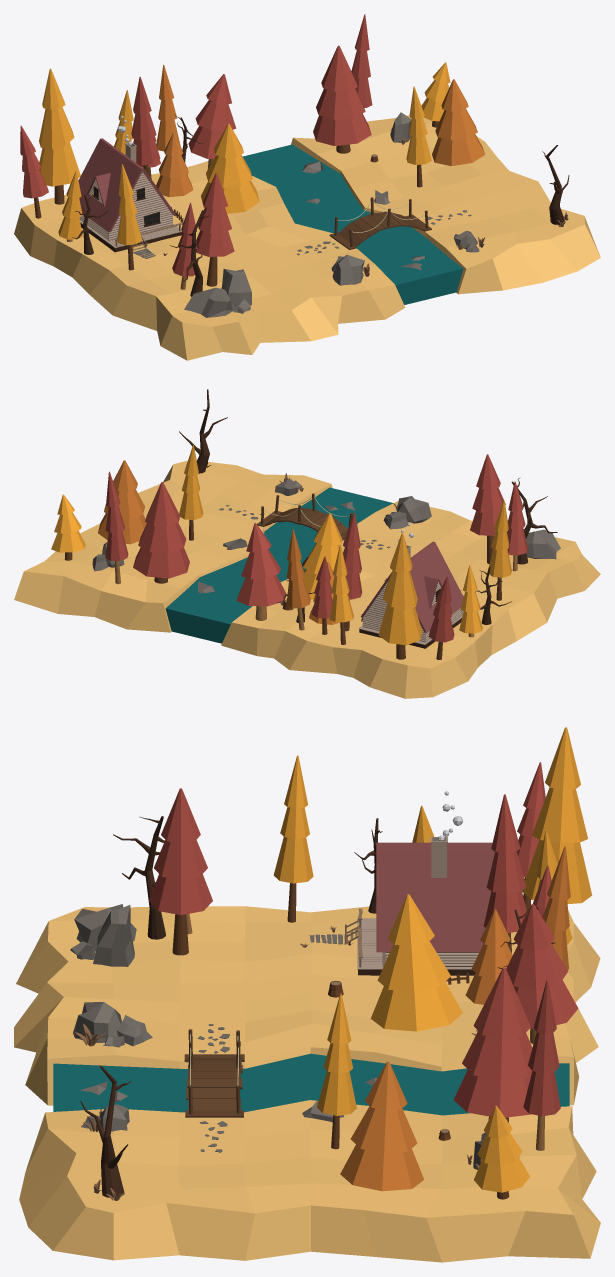
File: house1.gltf
3 renders of one model, top to bottom at view 1: azimuth 30°, elevation 25°; view 2: azimuth 150°, elevation 25°; view 3: azimuth 270°, elevation 25°, orthographic. The views are drawn at different scales.
Visible parts, largest first — view 1: grass (×2), river, Cylinder (×12), Cylinder 2 (×9), Cylinder 3 (×7), Cube 6, house, Cube 25, Cube 26, Cube 32, Cube 34; view 2: grass (×2), Cylinder (×14), river, Cylinder 2 (×9), Cylinder 3 (×7), Cube 6, house, Cube 25, Cube 32; view 3: grass (×2), Cylinder 2 (×14), Cylinder (×11), Cylinder 3 (×12), river, Cube 6, Cube 26, house, Cube 32, Cube 25.
Boxes of the visible parts, left/top/right/bottom form: grass (×2): left=14, top=115, right=600, bottom=360; river: left=243, top=144, right=463, bottom=304; Cylinder (×12): left=23, top=113, right=485, bottom=256; Cylinder 2 (×9): left=39, top=88, right=477, bottom=296; Cylinder 3 (×7): left=42, top=45, right=565, bottom=225; Cube 6: left=78, top=138, right=176, bottom=232; house: left=79, top=172, right=181, bottom=247; Cube 25: left=184, top=287, right=234, bottom=317; Cube 26: left=221, top=268, right=251, bottom=305; Cube 32: left=332, top=254, right=364, bottom=285; Cube 34: left=390, top=112, right=411, bottom=142; grass (×2): left=14, top=460, right=600, bottom=698; Cylinder (×14): left=51, top=492, right=528, bottom=645; river: left=165, top=487, right=392, bottom=643; Cylinder 2 (×9): left=54, top=487, right=505, bottom=609; Cylinder 3 (×7): left=113, top=389, right=500, bottom=572; Cube 6: left=361, top=541, right=463, bottom=632; house: left=358, top=580, right=463, bottom=644; Cube 25: left=526, top=529, right=560, bottom=559; Cube 32: left=397, top=496, right=431, bottom=523; grass (×2): left=14, top=906, right=600, bottom=1262; Cylinder 2 (×14): left=145, top=787, right=587, bottom=1165; Cylinder (×11): left=149, top=837, right=592, bottom=1192; Cylinder 3 (×12): left=99, top=727, right=580, bottom=1197; river: left=53, top=1053, right=569, bottom=1115; Cube 6: left=376, top=842, right=494, bottom=952; Cube 26: left=93, top=905, right=134, bottom=966; house: left=357, top=920, right=479, bottom=969; Cube 32: left=73, top=1002, right=121, bottom=1042; Cube 25: left=74, top=904, right=136, bottom=951.
Bounding box in the file's own units: 23.9 × 8.21 × 18.05.
